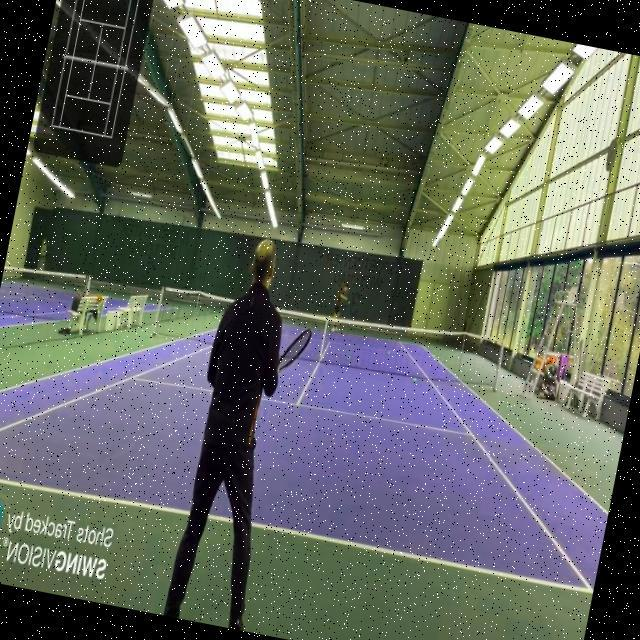court: (0, 264, 633, 598)
net: (152, 273, 506, 398)
player: (160, 232, 330, 633)
